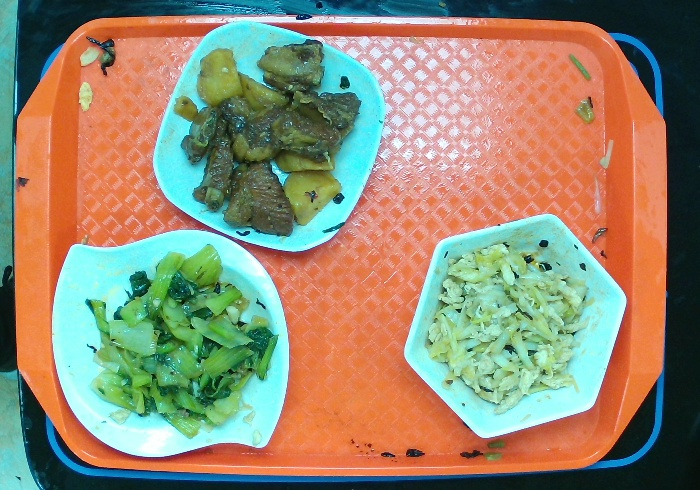RJxy-Liu_Jiao_Wan: (402, 210, 630, 442)
RJxy-Shuang_Jiao_Pan: (48, 228, 289, 459)
RJxy-Si_Fang_Wan: (154, 19, 386, 253)
